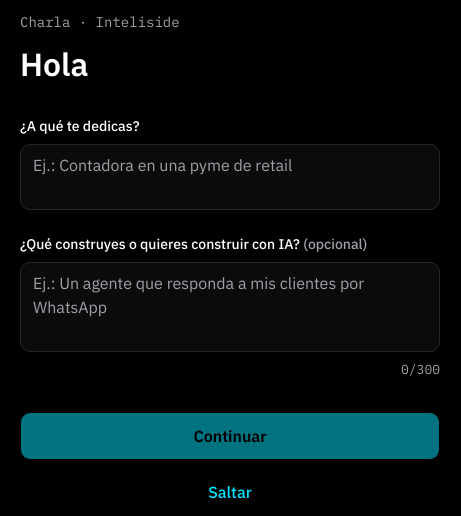
it: PantallaPerfil (falta_perfil) › el contador de la descripción muestra n/300
Expected: the text "0/300" is shown, [401,360,440,380]
Type "Un bot" into the text box labelled "¿Qué construyes o quieres construir con IA? (opcional)".
click(230, 307); type("Un bot")  # box [20,262,440,352]
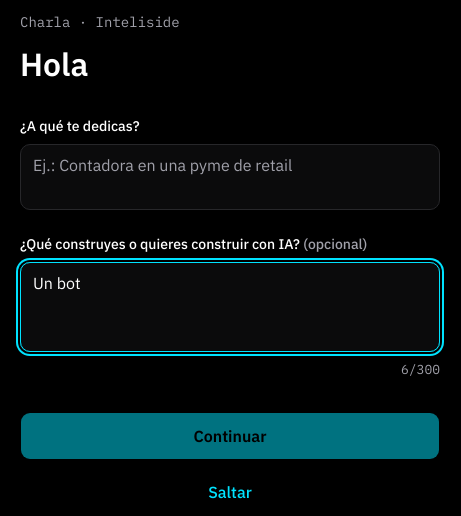
Now the text "6/300" is shown, box [401,360,440,380]
